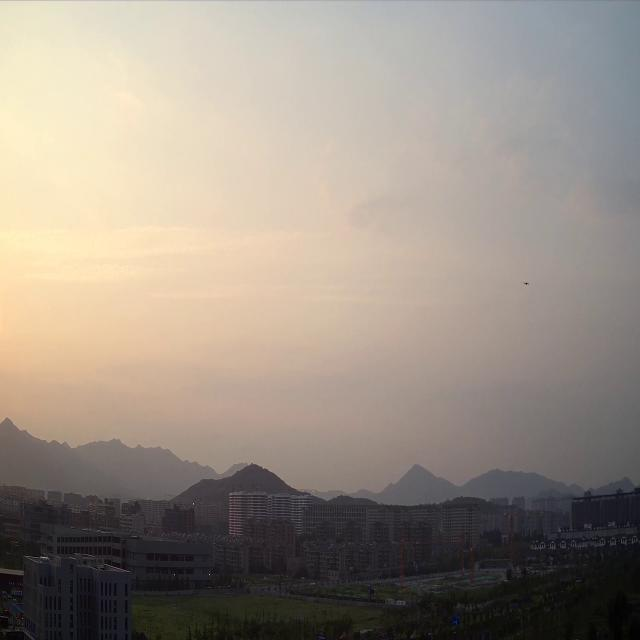UAV: (524, 280, 530, 285)
